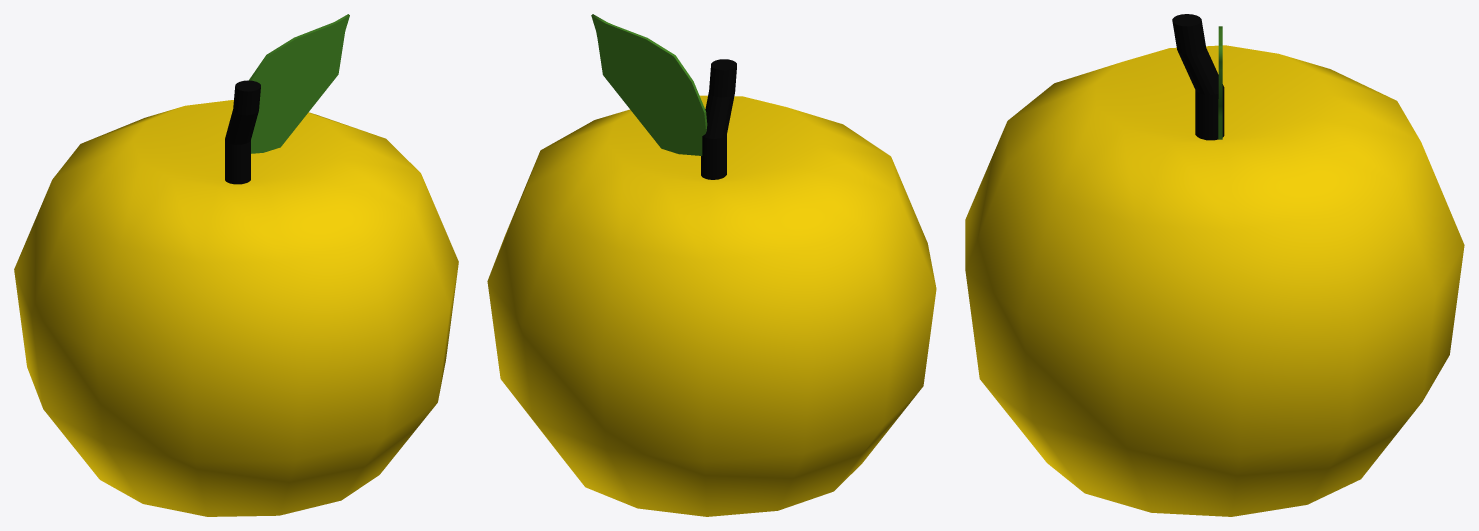
File: Apple.gltf
3 renders of one model, left to right at view 1: azimuth 30°, elevation 25°; view 2: azimuth 150°, elevation 25°; view 3: azimuth 270°, elevation 25°, orthographic. The views are drawn at different scales.
Parts seen in each view (by area): view 1: Apple; view 2: Apple; view 3: Apple.
Boxes of the visible parts, <box> form: Apple: <box>14,14,458,516</box>; Apple: <box>487,14,936,516</box>; Apple: <box>965,14,1464,516</box>.
Size of the model in its own units: 4.81 by 5.33 by 4.78.
